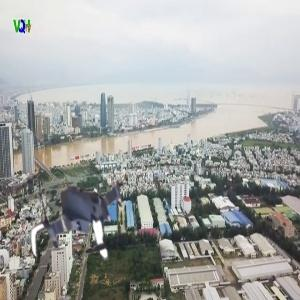drone: (23, 164, 141, 282)
